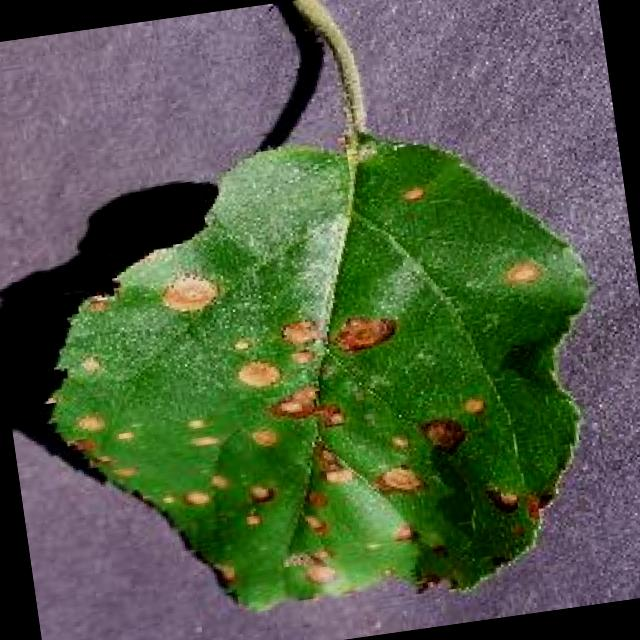leaf_spot: (51, 1, 589, 611)
